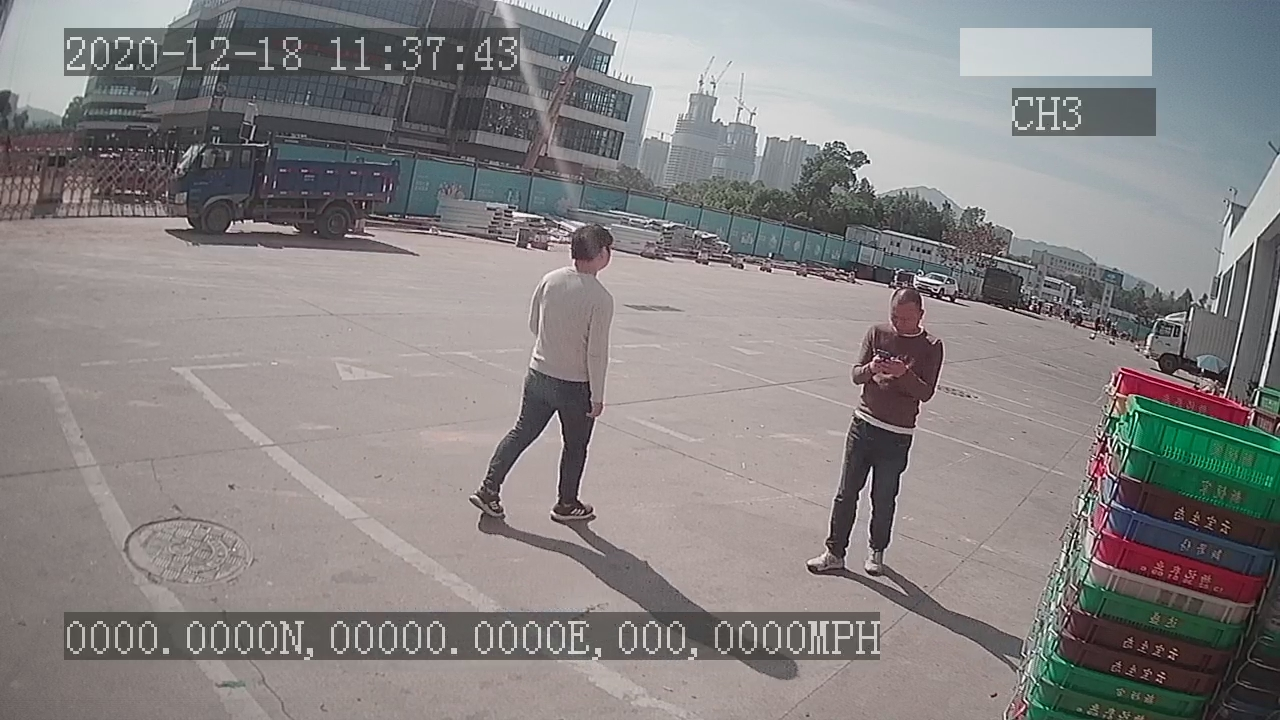person: (471, 216, 619, 530), (809, 283, 950, 579)
